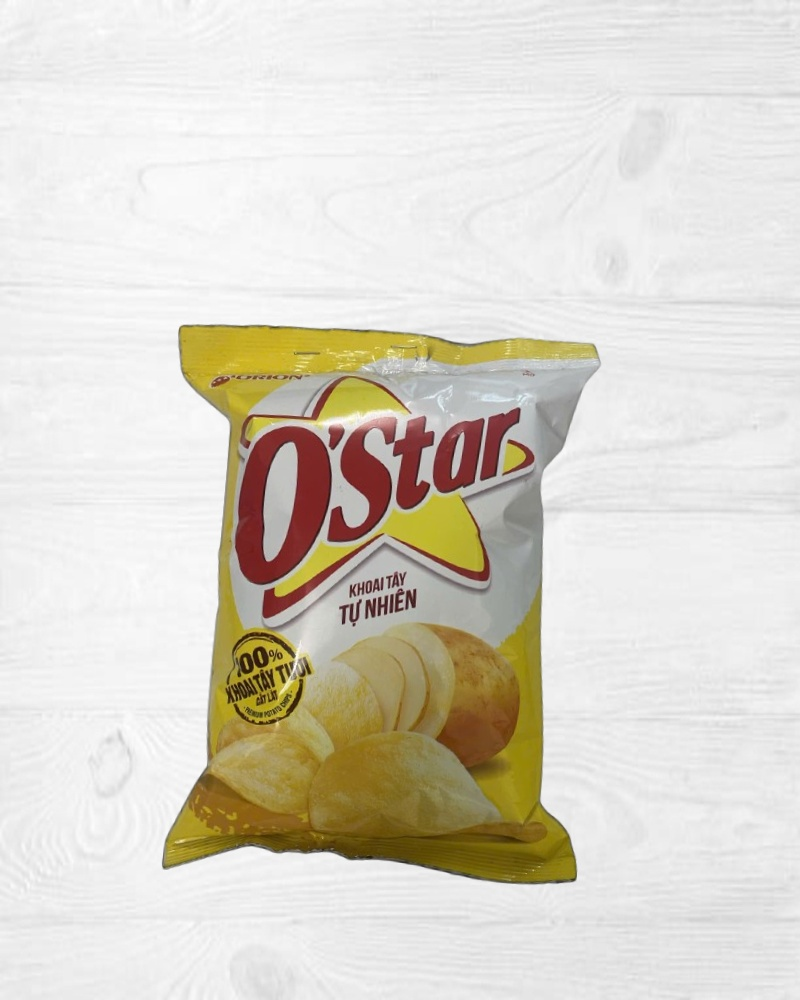O'star: (134, 308, 623, 905)
